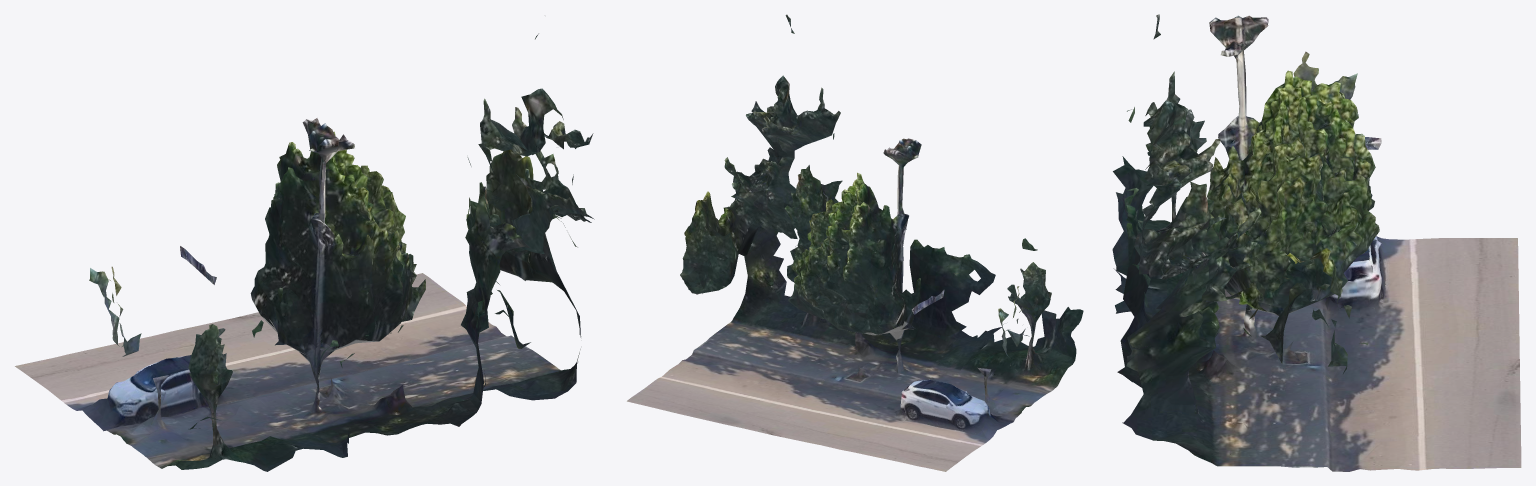
Rendered from Tile_+006_+007_L21_000200t5.glb.
3 views of the same model, side by side, from view 1: azimuth 30°, elevation 25°; view 2: azimuth 150°, elevation 25°; view 3: azimuth 270°, elevation 25° (orthographic). The views are drawn at different scales.
Visible parts, largest first — view 1: rtc; view 2: rtc; view 3: rtc.
Part boxes in pixels (box(x1,y1,x2,y2)): rtc: box(15, 33, 594, 471); rtc: box(627, 14, 1083, 471); rtc: box(1112, 14, 1521, 471).
Size of the model in its own units: 17.72 by 16.14 by 13.77.
Materials: 1 (1 with a texture image).
